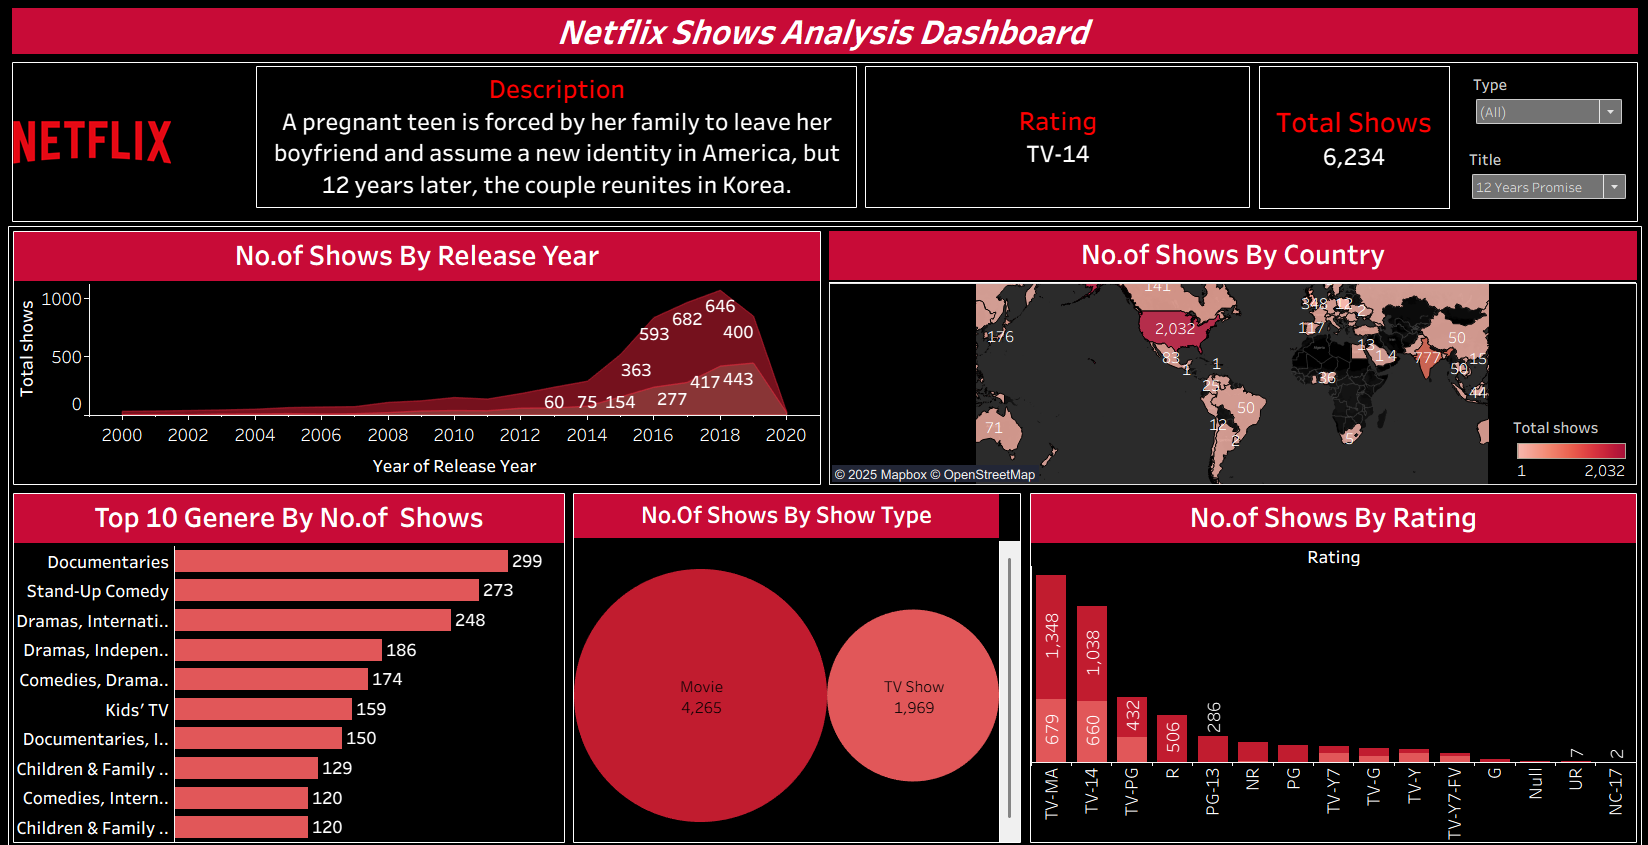

This screenshot's page, from the dashboard's own definition file:
{"tool":"tableau","page":{"name":"Dashboard 1","canvas":[1650,860],"ordinal":0},"visuals":[{"type":"title","box":[8,8,1634,54]},{"type":"image","param":"Image/netflix.png","box":[8,62,1634,168]},{"type":"worksheet","title":"Description KPI2","mark":"Automatic","box":[256,70,601,142]},{"type":"worksheet","title":"Rating KPI 3","mark":"Automatic","box":[865,70,385,142]},{"type":"worksheet","title":"Total SHow KPI 1","mark":"Automatic","box":[1259,70,191,143]},{"type":"filter","title":"Description KPI2","param":"[federated.007msaf0mcge6x1e2bfhf1eoefzc].[none:type:nk]","box":[1473,78,152,97]},{"type":"filter","title":"Description KPI2","param":"[federated.007msaf0mcge6x1e2bfhf1eoefzc].[none:title:nk]","box":[1469,153,160,53]},{"type":"worksheet","title":"No.OF Shows By Release Year","mark":"Area","rows":["Calculation_627407760389251072"],"cols":["release_year"],"box":[9,231,816,261.6]},{"type":"worksheet","title":"No of Shows By Country","mark":"Automatic","box":[825,231,816,261.6]},{"type":"legend","title":"No of Shows By Country","param":"[federated.007msaf0mcge6x1e2bfhf1eoefzc].[usr:Calculation_627407760389251072:qk]","box":[1513,421,117,63]},{"type":"worksheet","title":"Top 10 Genere By Shows","mark":"Automatic","rows":["listed_in"],"cols":["Calculation_627407760389251072"],"box":[9,492.6,560.2,358.4]},{"type":"worksheet","title":"No.Of Shows By Show Type","mark":"Circle","box":[569.2,492.6,456.4,358.4]},{"type":"worksheet","title":"NO.Of shows By Ratings","mark":"Automatic","rows":["Calculation_627407760389251072"],"cols":["rating"],"box":[1025.6,492.6,615.4,358.4]}]}

Visuals, with their boxes in screenshot pixels (x1, y1, x2, y2), scaled from the page's 1650x860 canvas onto the 1648x845 screenshot:
title: 8/8/1640/61
image: 8/61/1640/226
"Description KPI2" worksheet: 256/69/856/208
"Rating KPI 3" worksheet: 864/69/1248/208
"Total SHow KPI 1" worksheet: 1257/69/1448/209
"Description KPI2" filter: 1471/77/1623/172
"Description KPI2" filter: 1467/150/1627/202
"No.OF Shows By Release Year" worksheet (Area marks): 9/227/824/484
"No of Shows By Country" worksheet: 824/227/1639/484
"No of Shows By Country" legend: 1511/414/1628/476
"Top 10 Genere By Shows" worksheet: 9/484/569/836
"No.Of Shows By Show Type" worksheet (Circle marks): 569/484/1024/836
"NO.Of shows By Ratings" worksheet: 1024/484/1639/836
